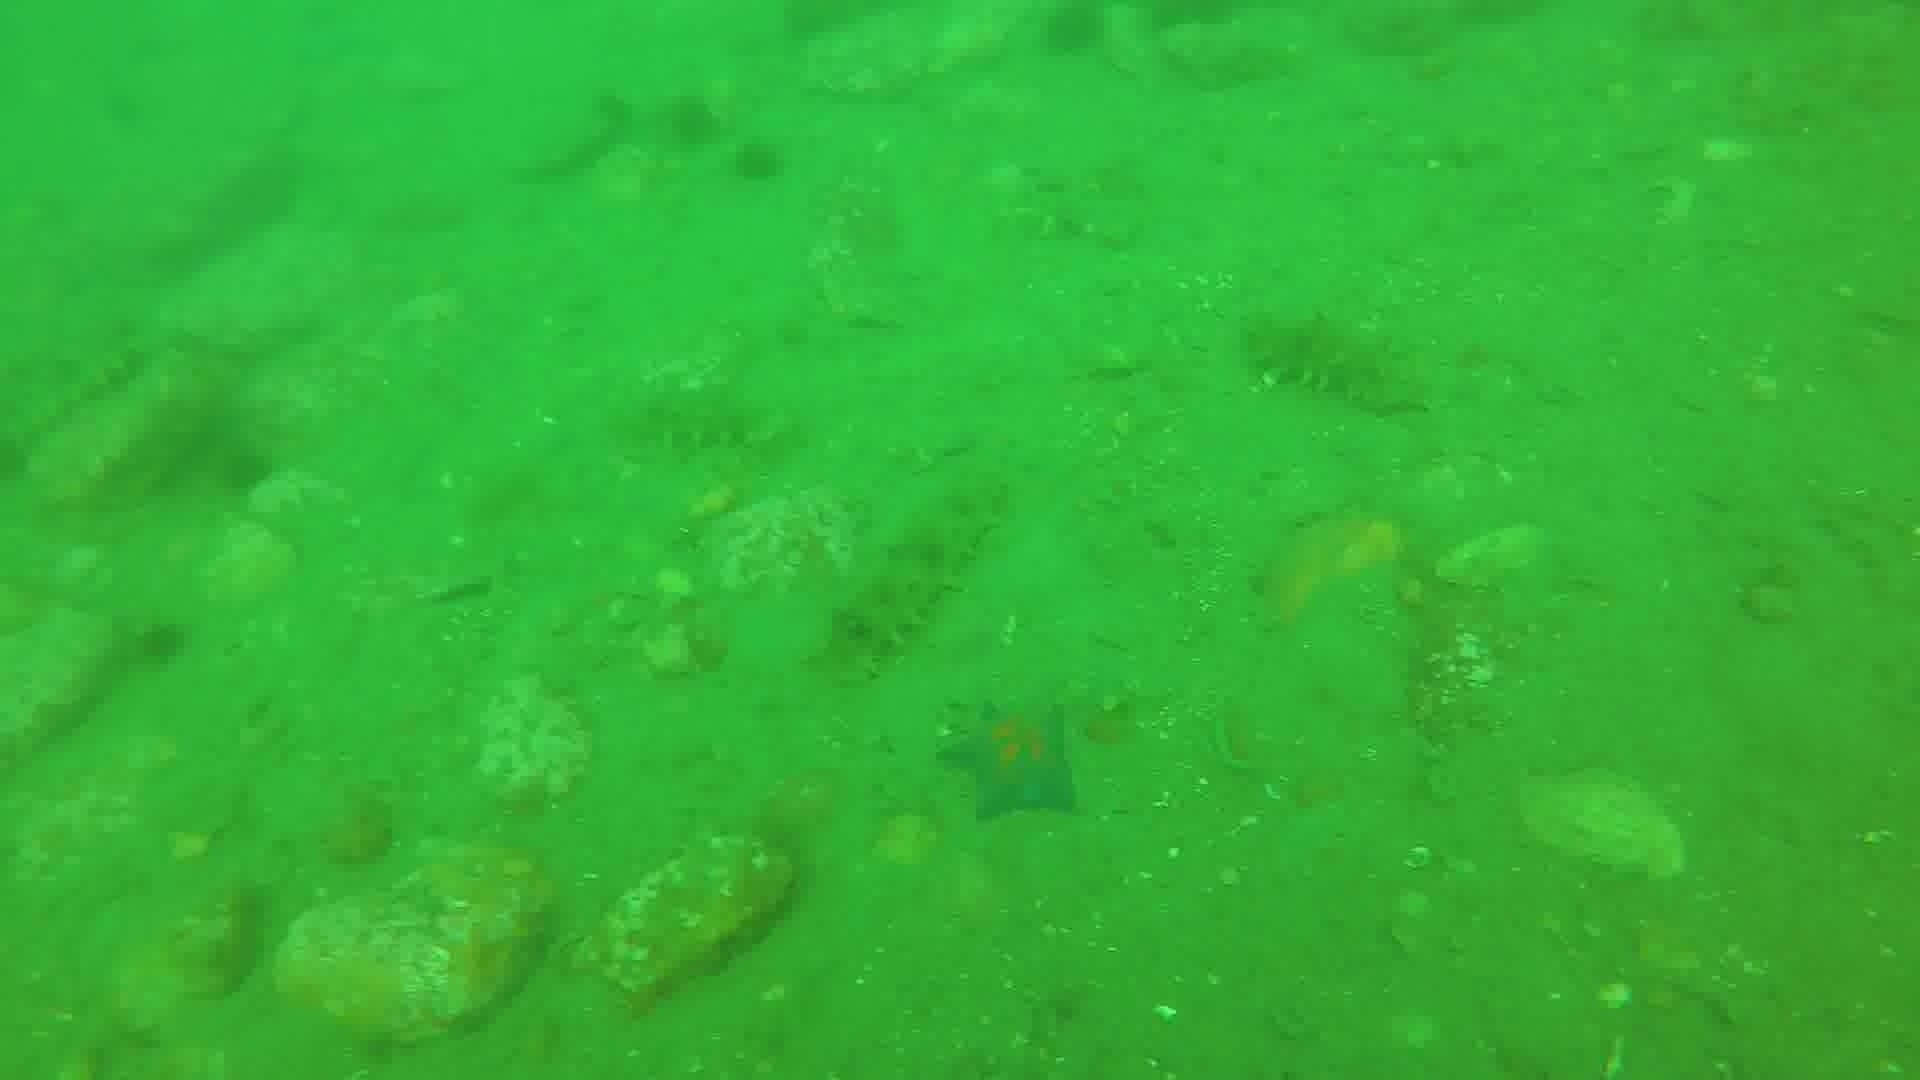echinus: (1033, 3, 1113, 63), (659, 90, 724, 153), (128, 615, 193, 673), (727, 135, 790, 189)
holothurian: (811, 468, 1011, 682), (1237, 303, 1433, 417), (611, 378, 798, 458), (986, 165, 1149, 251)
starfish: (936, 694, 1087, 825)
